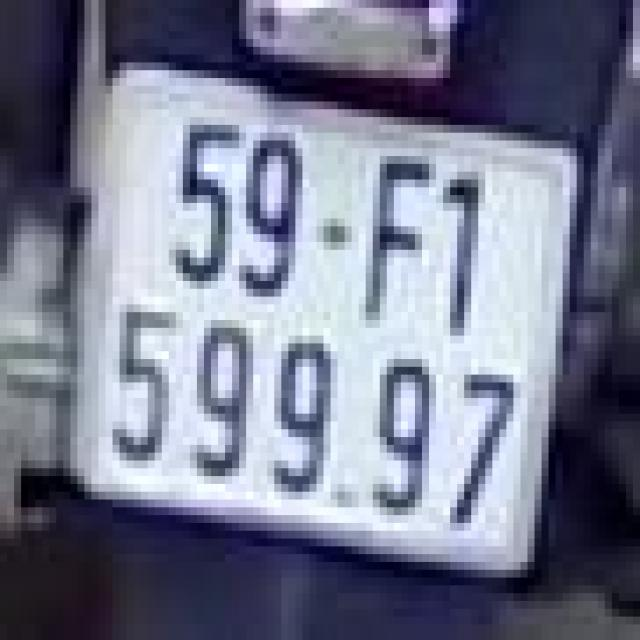1: (436, 152, 506, 355)
5: (162, 109, 246, 289), (102, 289, 172, 468)
7: (447, 363, 531, 542)
9: (236, 121, 313, 316), (186, 304, 257, 492), (369, 343, 440, 531), (271, 328, 341, 507)
F: (359, 140, 436, 336)
